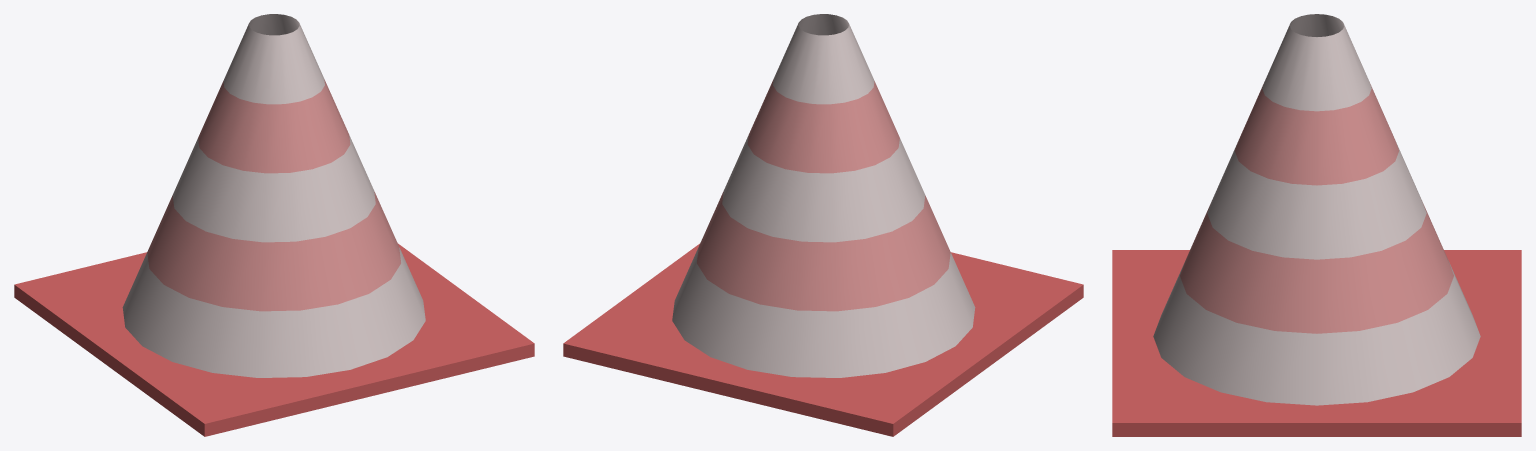
The model's file is cono2.fbx.
3 views of the same model, side by side, from view 1: azimuth 30°, elevation 25°; view 2: azimuth 150°, elevation 25°; view 3: azimuth 270°, elevation 25° (orthographic). The views are drawn at different scales.
Visible parts, largest first — view 1: pCone2, pCube13; view 2: pCone2, pCube13; view 3: pCone2, pCube13.
Part boxes in pixels (box(x1,y1,x2,y2)): pCone2: box(122, 14, 425, 377); pCube13: box(14, 243, 534, 436); pCone2: box(672, 14, 975, 377); pCube13: box(563, 243, 1083, 436); pCone2: box(1153, 14, 1480, 405); pCube13: box(1112, 250, 1521, 436).
Bounding box in the file's own units: 1.33 × 1.16 × 1.33.
